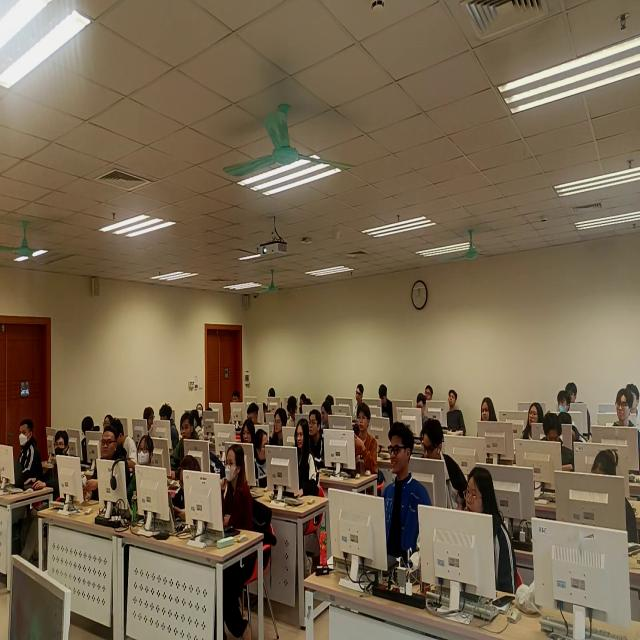raise_head: (378, 419, 431, 565), (464, 463, 521, 595), (80, 428, 129, 506), (217, 442, 256, 539), (29, 427, 72, 491), (613, 385, 640, 481), (8, 417, 45, 484), (348, 401, 380, 476), (127, 433, 156, 510), (169, 410, 201, 473), (309, 404, 328, 468), (446, 390, 468, 437), (522, 399, 544, 443), (625, 382, 640, 430), (478, 395, 500, 426), (191, 408, 206, 442), (351, 382, 366, 416), (228, 389, 241, 427), (554, 388, 572, 415), (567, 381, 578, 405), (103, 412, 114, 430), (423, 385, 434, 401), (198, 400, 205, 421)
sleep: (201, 442, 226, 480)
using_computer: (589, 446, 640, 549), (418, 415, 470, 510), (287, 416, 322, 502), (542, 409, 575, 471), (112, 418, 139, 466), (79, 415, 100, 466), (556, 409, 586, 443), (270, 407, 288, 447), (380, 383, 396, 424), (415, 393, 430, 426), (288, 395, 301, 430), (242, 417, 256, 448), (247, 401, 263, 425), (300, 392, 314, 417), (263, 400, 272, 425), (325, 392, 337, 408), (268, 385, 277, 402), (205, 404, 215, 416)
using_phone: (168, 452, 204, 526)
